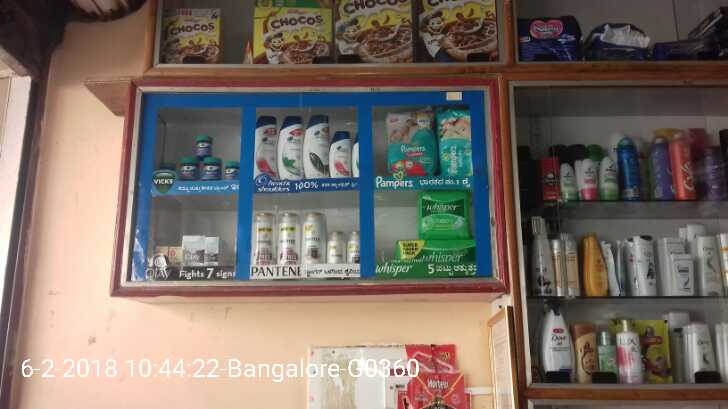beauty: (254, 115, 282, 182), (296, 211, 326, 268), (278, 115, 306, 176), (254, 216, 281, 269), (305, 116, 328, 176), (328, 124, 352, 180), (278, 211, 298, 265), (183, 236, 203, 272), (327, 229, 346, 263), (203, 237, 220, 270)
pharmacy: (380, 109, 438, 177), (389, 234, 476, 268), (434, 112, 474, 180), (414, 189, 469, 238), (178, 159, 202, 182), (203, 156, 220, 183), (194, 133, 212, 158), (221, 161, 238, 180)
